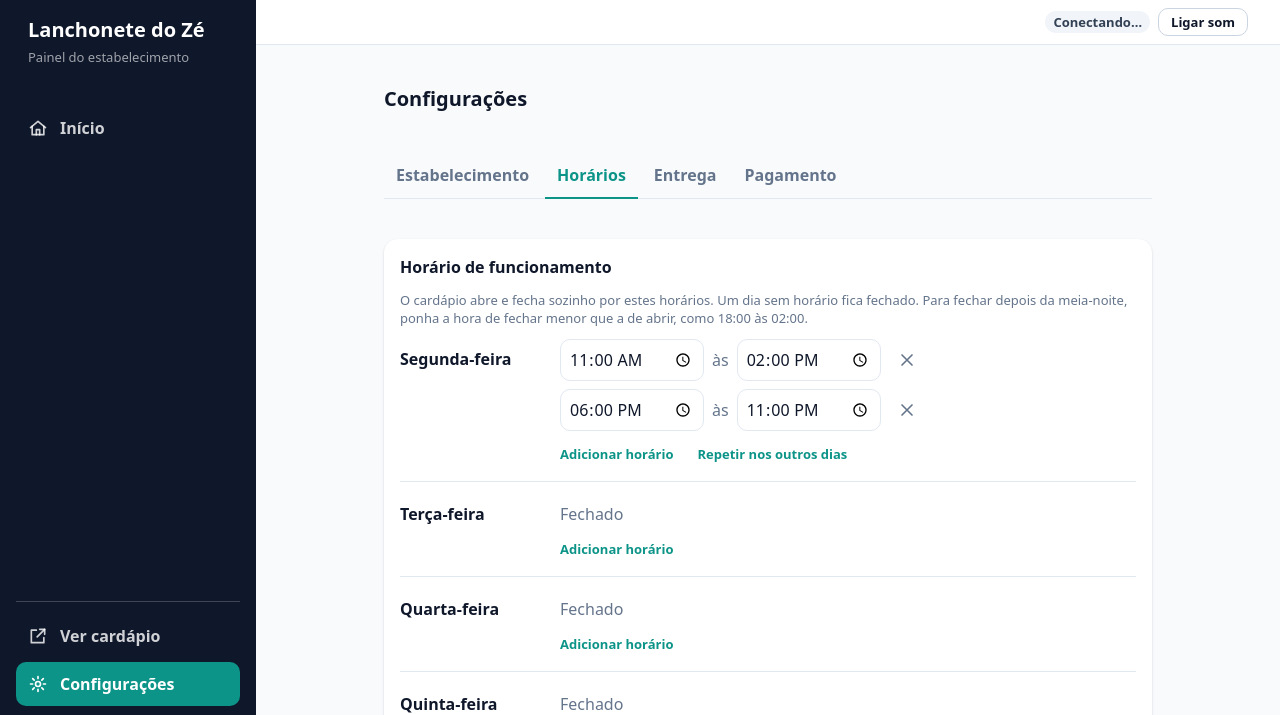
Test: abas das configurações › trocar de aba abre a outra, sem sair das configurações
The width and height of the screenshot is (1280, 715).
Expected: the element named "Segunda-feira, 1º horário" is shown, [560,339,925,381]
Click the link "Entrega" at (685,175), box [654,164,716,186]
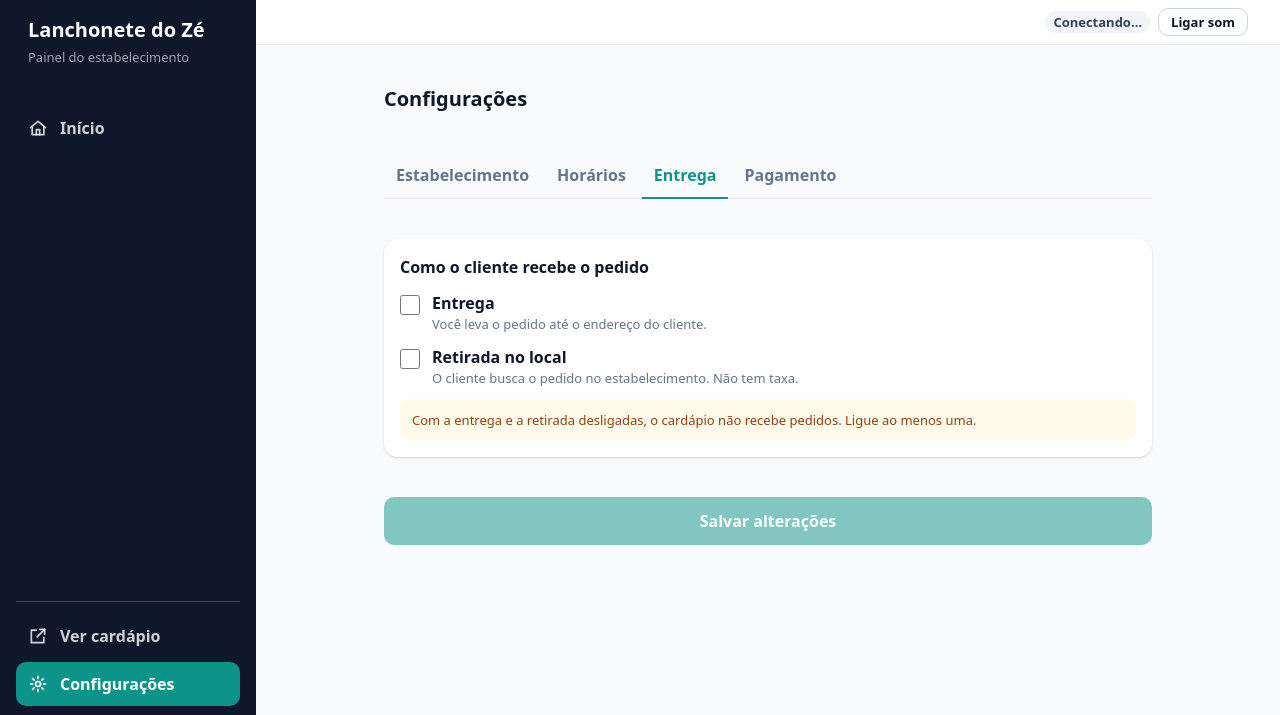
Expected: the heading "Configurações" is shown, [384,85,527,112]
Expected: the checkbox labelled "Retirada no local" is shown, [400,349,420,369]
